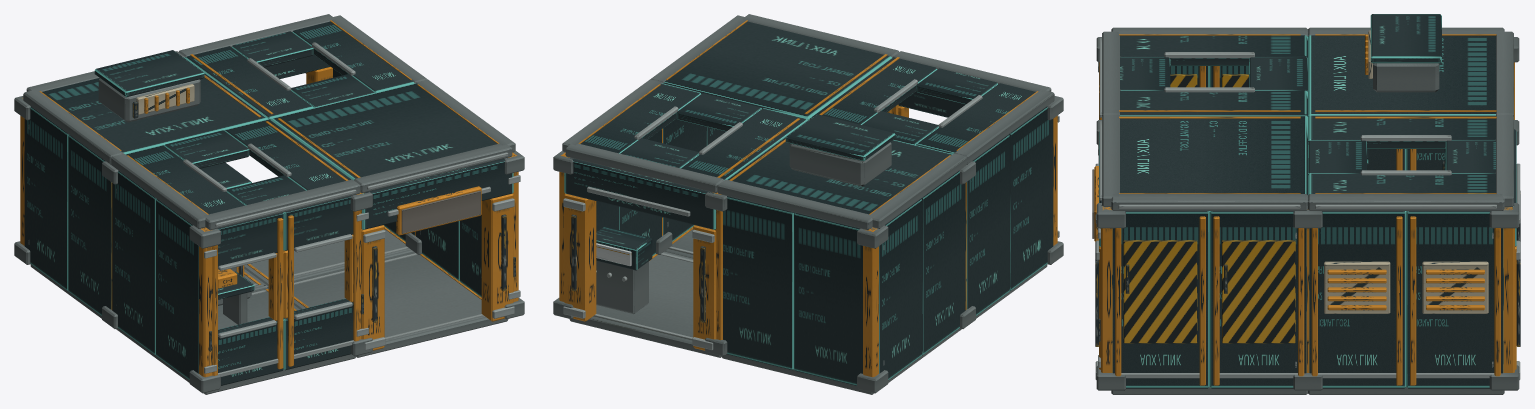
The model's file is PurificationStation_LOD1.obj.
3 renders of one model, left to right at view 1: azimuth 30°, elevation 25°; view 2: azimuth 150°, elevation 25°; view 3: azimuth 270°, elevation 25°, orthographic. The views are drawn at different scales.
Visible parts, largest first — view 1: 005_roof_4m.005, 007_roof_skylight_4m.005, 019_doorframe_4m.005, 001_roof_skylight_4m.005, 017_wall_window_2m.005, 004_floor_4m.005, 016_wall_window_2m.005, 003_roof_4m.005, 025_wall_vent_2m.005, 022_wall_solid_2m.005, 024_wall_vent_2m.005, 021_wall_solid_2m.005 (+23 smaller); view 2: 005_roof_4m.005, 030_doorframe_4m.005, 028_wall_solid_2m.009, 027_wall_solid_2m.005, 007_roof_skylight_4m.005, 001_roof_skylight_4m.005, 021_wall_solid_2m.005, 003_roof_4m.005, 024_wall_vent_2m.005, 022_wall_solid_2m.005, 025_wall_vent_2m.005, 006_floor_4m.005 (+21 smaller); view 3: 035_wall_vent_2m.005, 033_wall_solid_2m.005, 032_wall_solid_2m.005, 036_wall_vent_2m.005, 005_roof_4m.005, 001_roof_skylight_4m.005, 007_roof_skylight_4m.005, 003_roof_4m.005, 039_hvac_unit.005, 034_beam_4m.005, 037_beam_4m.005, 013_column_4m.009 (+17 smaller).
Part boxes in pixels (x1,y1,x2,y2): 005_roof_4m.005: [270, 83, 499, 180]; 007_roof_skylight_4m.005: [185, 20, 414, 119]; 019_doorframe_4m.005: [361, 158, 514, 350]; 001_roof_skylight_4m.005: [125, 119, 350, 214]; 017_wall_window_2m.005: [283, 196, 359, 370]; 004_floor_4m.005: [294, 251, 508, 357]; 016_wall_window_2m.005: [212, 212, 283, 385]; 003_roof_4m.005: [39, 57, 268, 153]; 025_wall_vent_2m.005: [24, 106, 68, 290]; 022_wall_solid_2m.005: [112, 170, 156, 355]; 024_wall_vent_2m.005: [68, 134, 111, 315]; 021_wall_solid_2m.005: [156, 199, 198, 379]; 005_roof_4m.005: [663, 20, 892, 119]; 030_doorframe_4m.005: [563, 157, 716, 350]; 028_wall_solid_2m.009: [723, 196, 794, 370]; 027_wall_solid_2m.005: [794, 212, 862, 385]; 007_roof_skylight_4m.005: [578, 83, 807, 180]; 001_roof_skylight_4m.005: [809, 57, 1038, 153]; 021_wall_solid_2m.005: [1009, 106, 1053, 290]; 003_roof_4m.005: [727, 119, 952, 214]; 024_wall_vent_2m.005: [921, 170, 965, 355]; 022_wall_solid_2m.005: [966, 134, 1009, 315]; 025_wall_vent_2m.005: [879, 199, 921, 379]; 006_floor_4m.005: [569, 251, 721, 357]; 035_wall_vent_2m.005: [1309, 211, 1406, 388]; 033_wall_solid_2m.005: [1209, 211, 1306, 388]; 032_wall_solid_2m.005: [1112, 211, 1209, 388]; 036_wall_vent_2m.005: [1406, 211, 1503, 388]; 005_roof_4m.005: [1119, 115, 1307, 194]; 001_roof_skylight_4m.005: [1119, 34, 1307, 116]; 007_roof_skylight_4m.005: [1308, 115, 1496, 194]; 003_roof_4m.005: [1308, 34, 1496, 116]; 039_hvac_unit.005: [1365, 14, 1441, 92]; 034_beam_4m.005: [1111, 194, 1307, 210]; 037_beam_4m.005: [1308, 194, 1504, 210]; 013_column_4m.009: [1096, 203, 1125, 390].
Size of the model in its own units: 8.62 by 5.3 by 8.72.
Materials: 1 (1 with a texture image).
